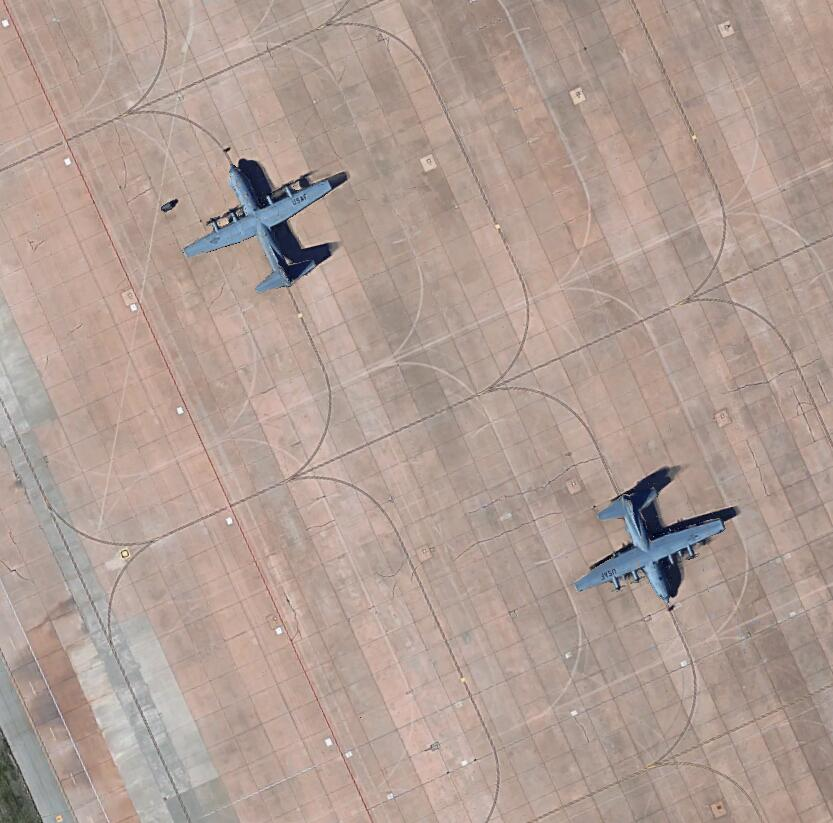A2: (565, 474, 730, 610), (179, 153, 334, 296)
